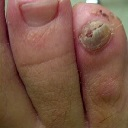Nail Fungal Infection: (80, 11, 114, 47)
